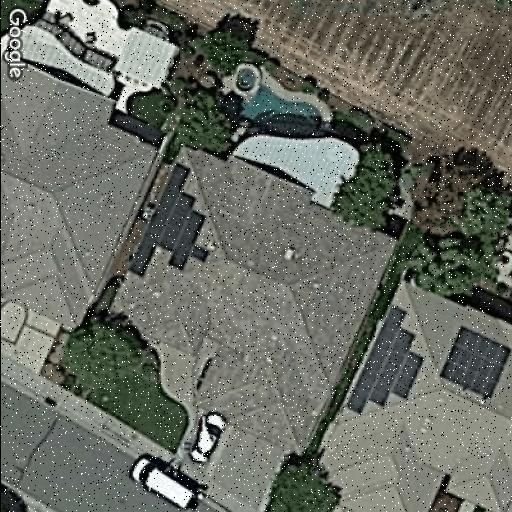solar-panel: (128, 160, 212, 283), (346, 304, 424, 417), (439, 325, 512, 401)
